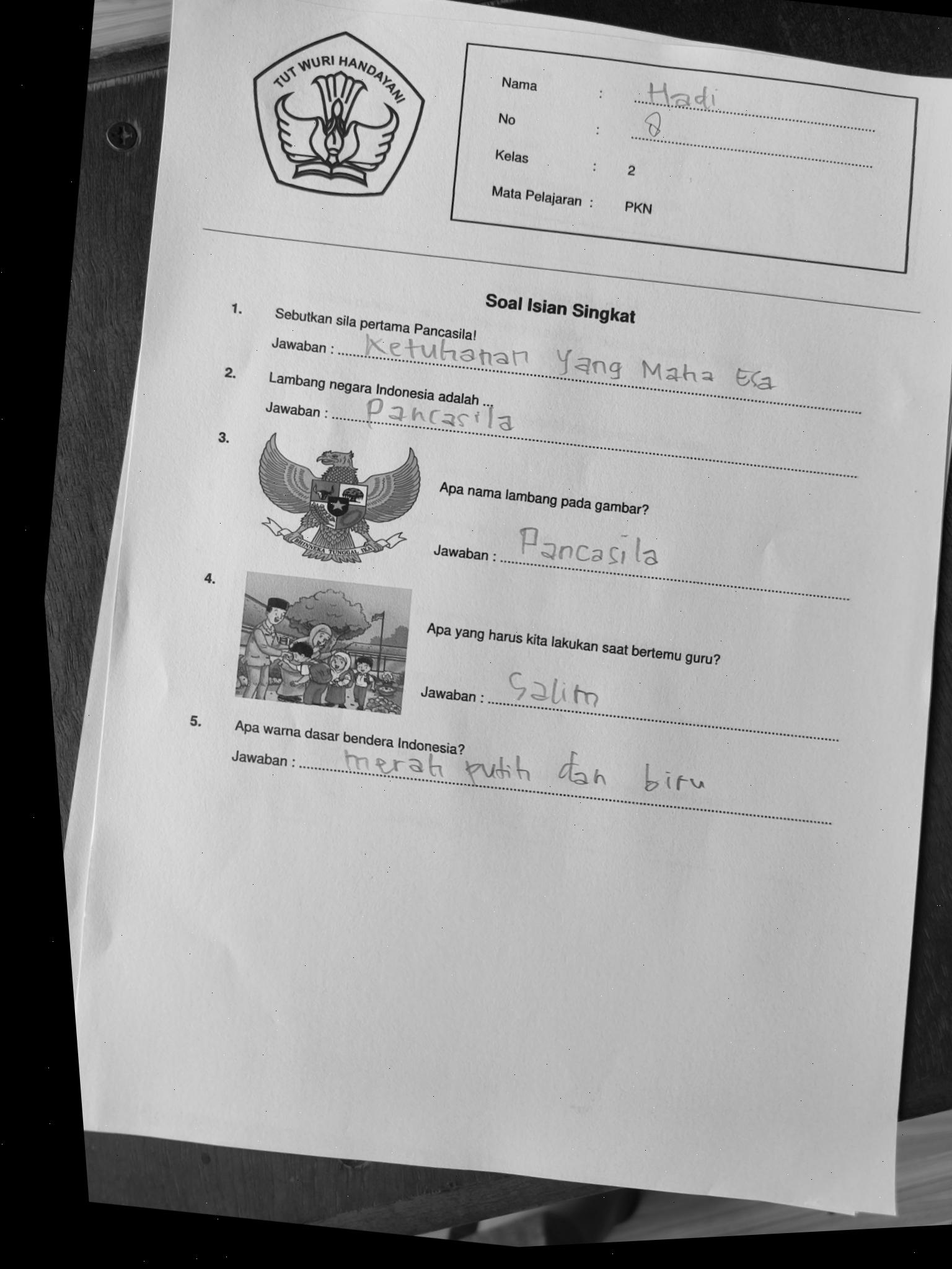soal-1: (217, 289, 878, 432)
soal-2: (211, 354, 879, 495)
soal-3: (194, 422, 876, 617)
soal-4: (186, 556, 870, 758)
soal-5: (171, 699, 853, 847)
